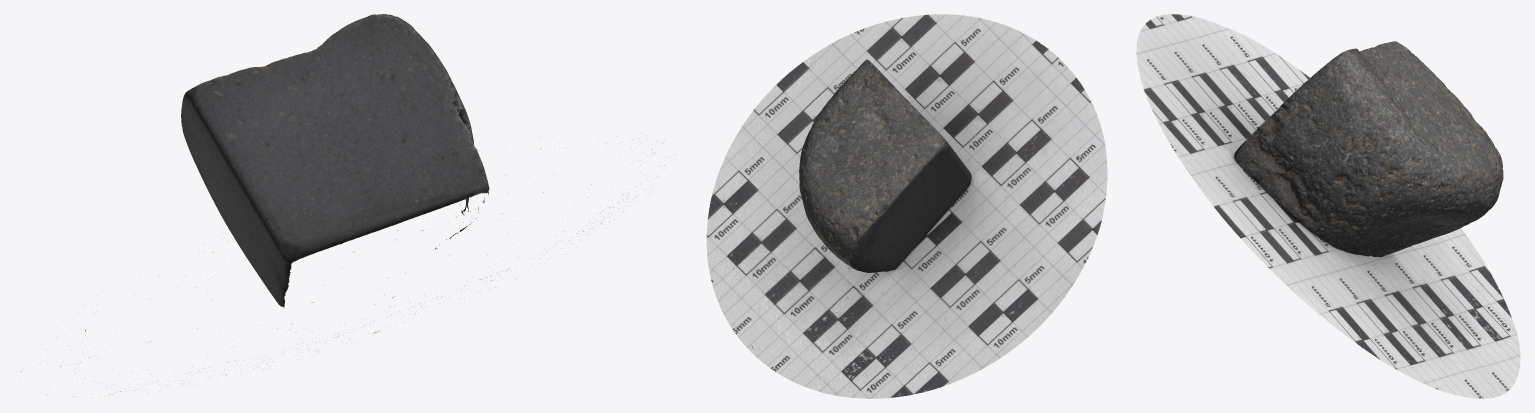
File: sample-06.glb
The picture shows the model from 3 angles, left to right: view 1: azimuth 30°, elevation 25°; view 2: azimuth 150°, elevation 25°; view 3: azimuth 270°, elevation 25°; orthographic projection. The views are drawn at different scales.
Size of the model in its own units: 0.1261 by 0.0879 by 0.0932.
Materials: 1 (1 with a texture image).
